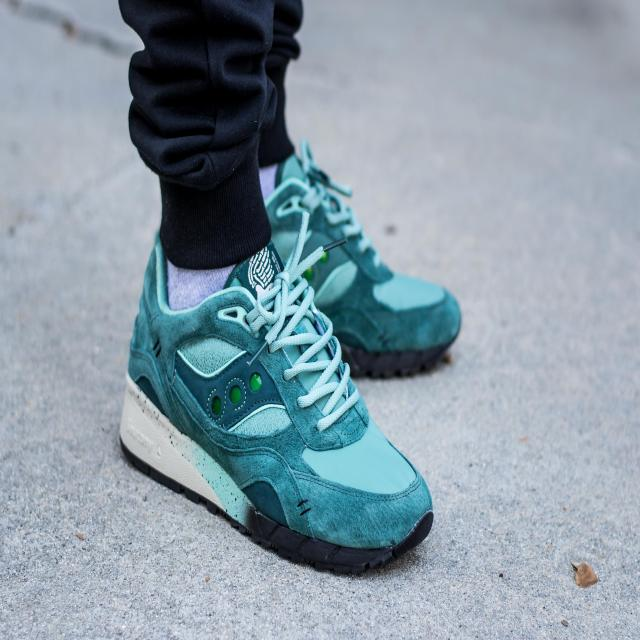shoe: (97, 201, 441, 592), (254, 137, 468, 390)
